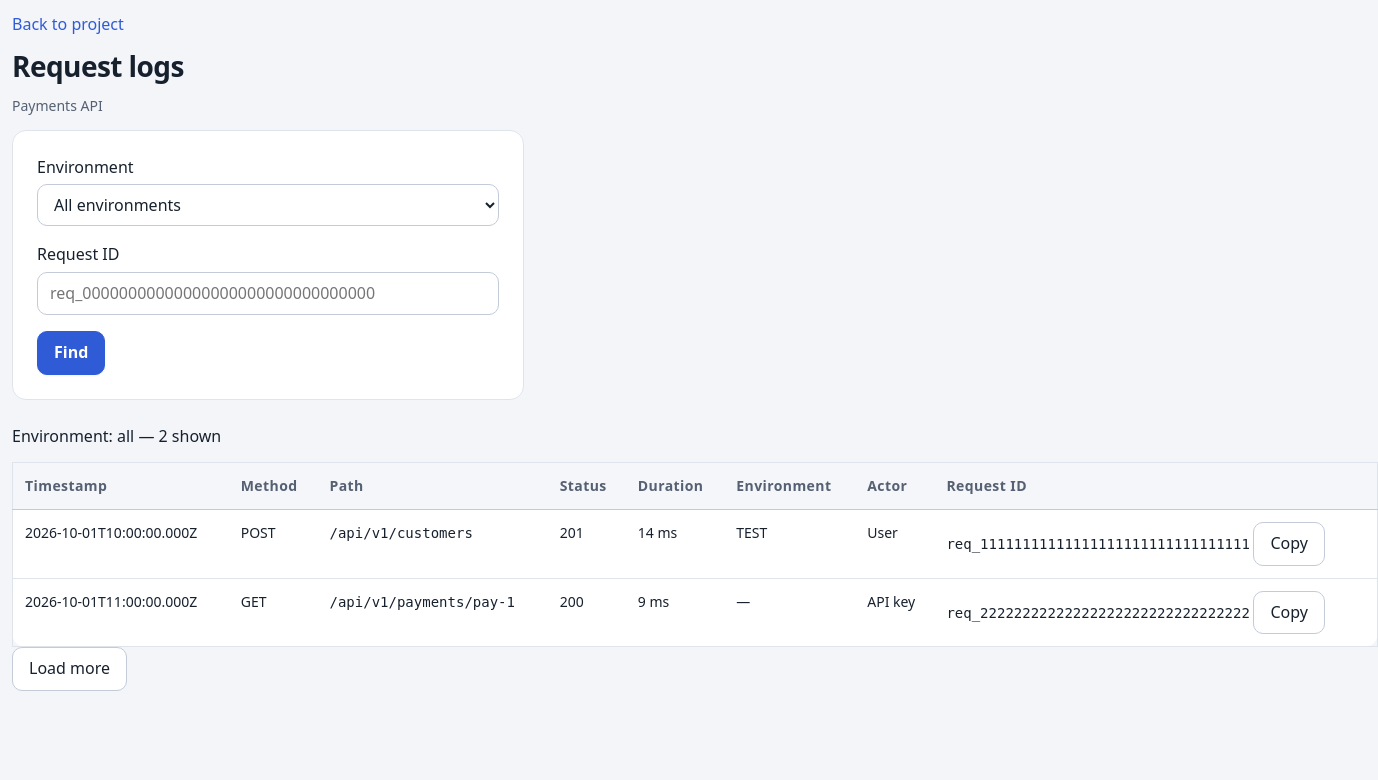
request logs page (phase 11 §7) › copies a request id for issue reporting
Click the button "Copy" next to "req_11111111111111111111111111111111" at (1289, 544), box [1254,522,1325,566]
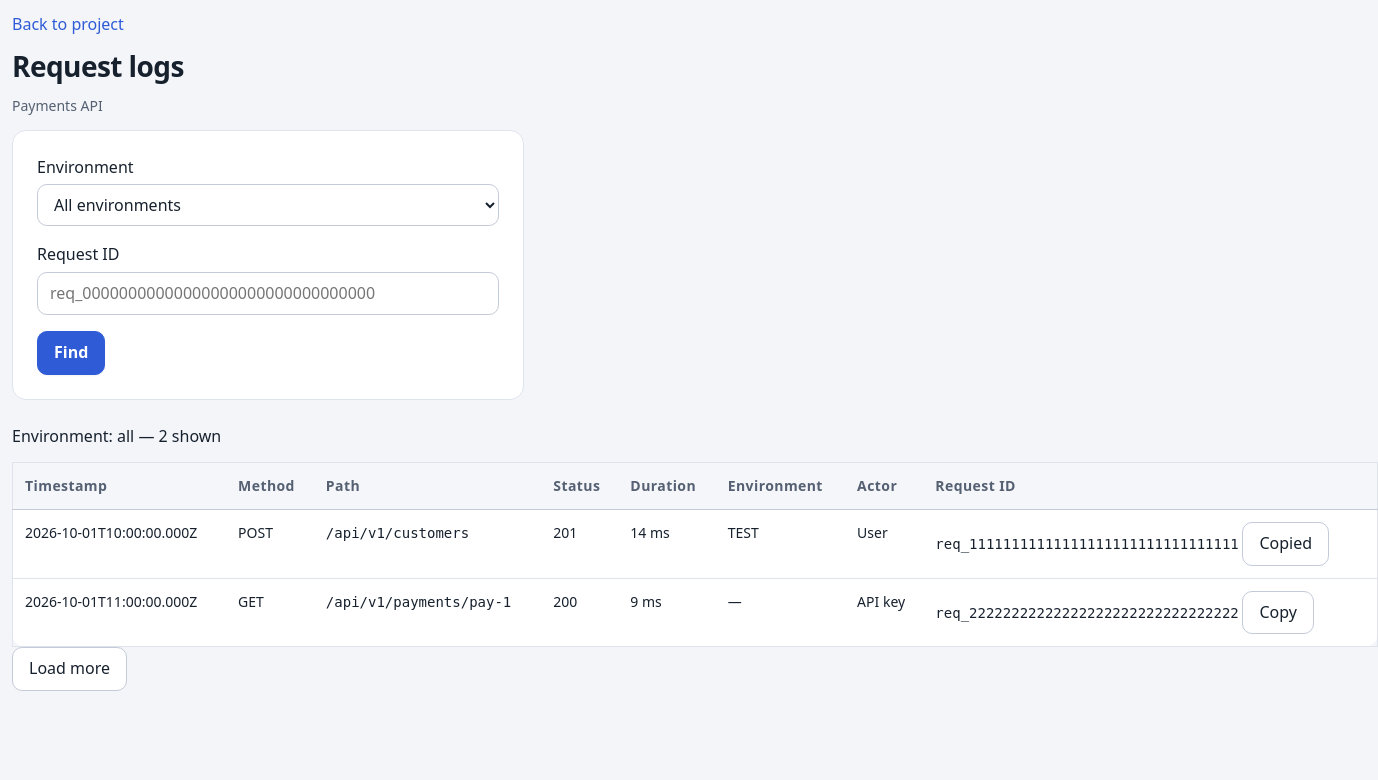
Expected: the button "Copied" is shown, [1242,522,1329,566]
